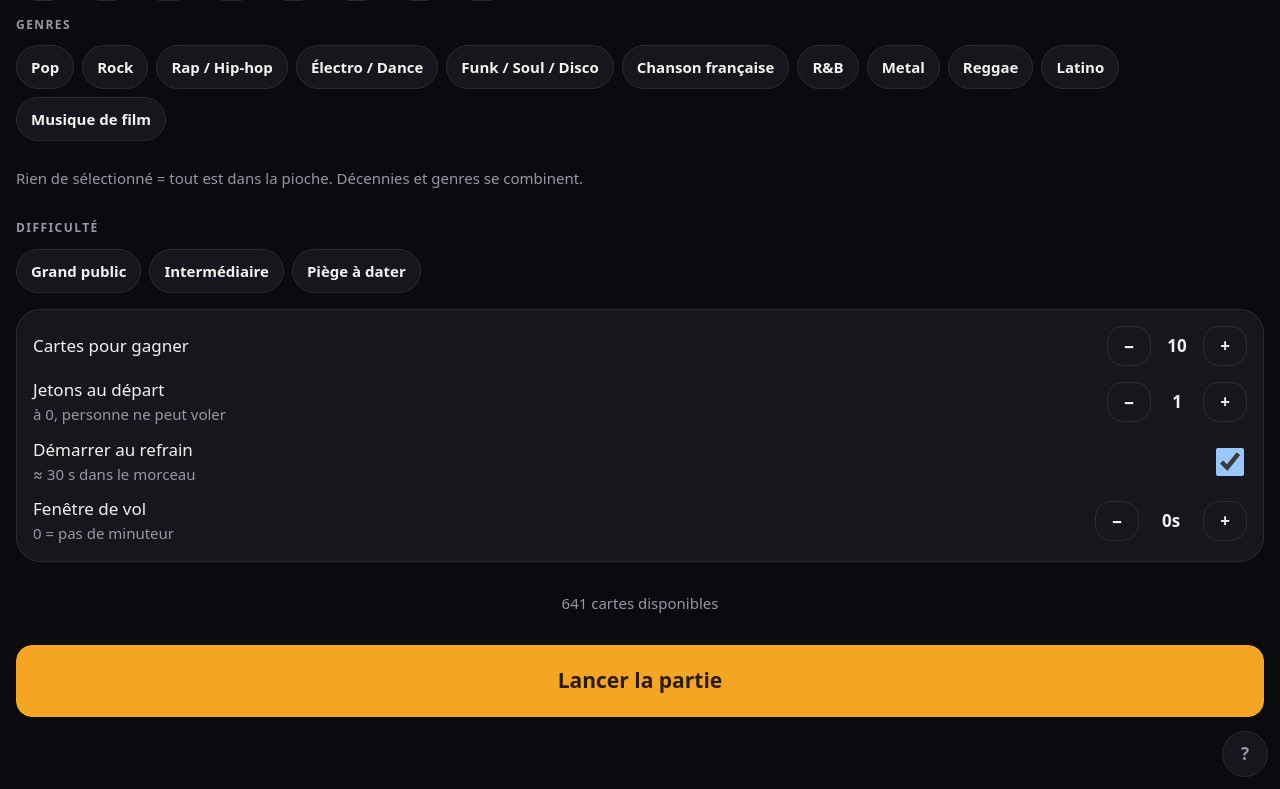
a game, played through the UI › lets the arbiter hand out a token from the draw screen
The image size is (1280, 789).
(page scrolled)
What coordinates should you click on to do the following:
click the button "Lancer la partie"
I would click on:
 (640, 681)
Its box is [16,645,1264,717].
(page scrolled)
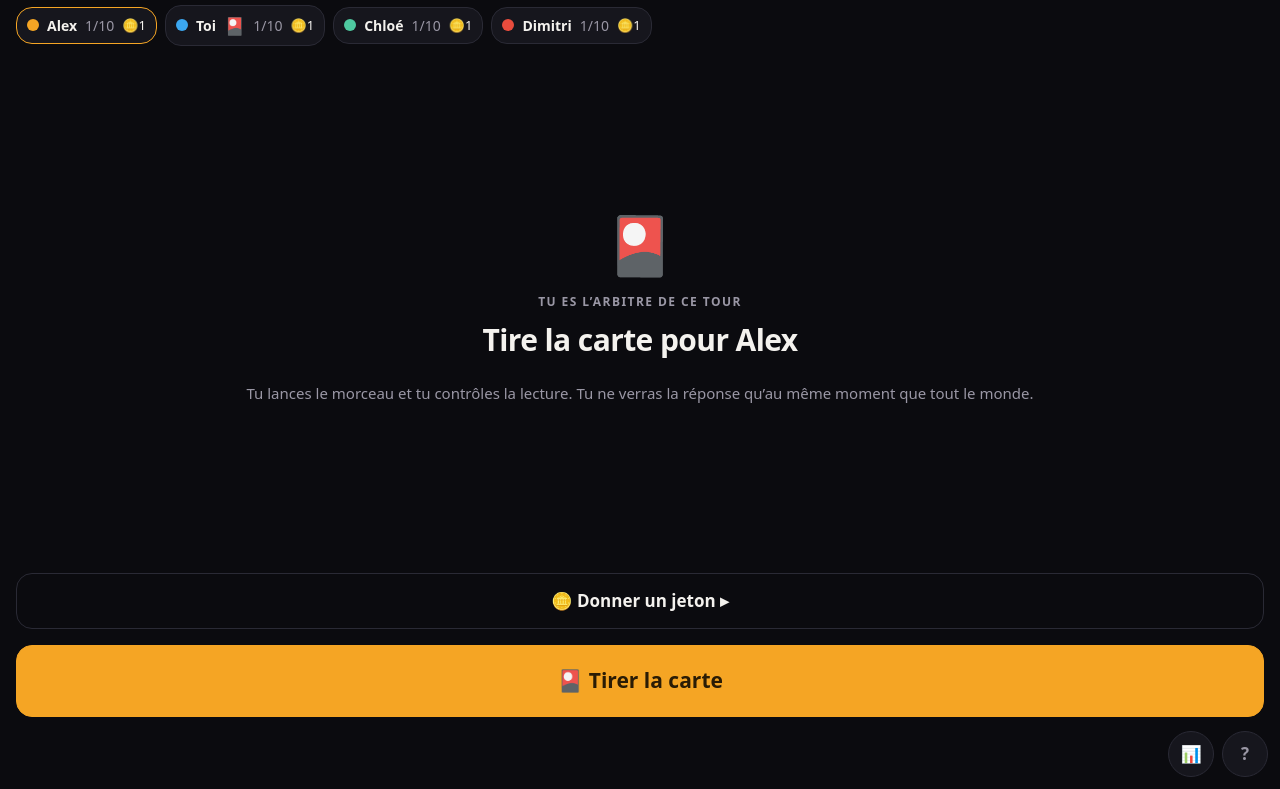
Now the button "🎴 Tirer la carte" is shown, box [16,645,1264,717]
Now the number of elements titled "1 jeton" is 4, box [122,16,146,35]; [290,16,314,35]; [449,16,472,35]; [617,16,641,35]
What coordinates should you click on to do the following:
click the button "🪙 Donner un jeton ▸"
I would click on:
 (640, 601)
Its box is [16,573,1264,629].
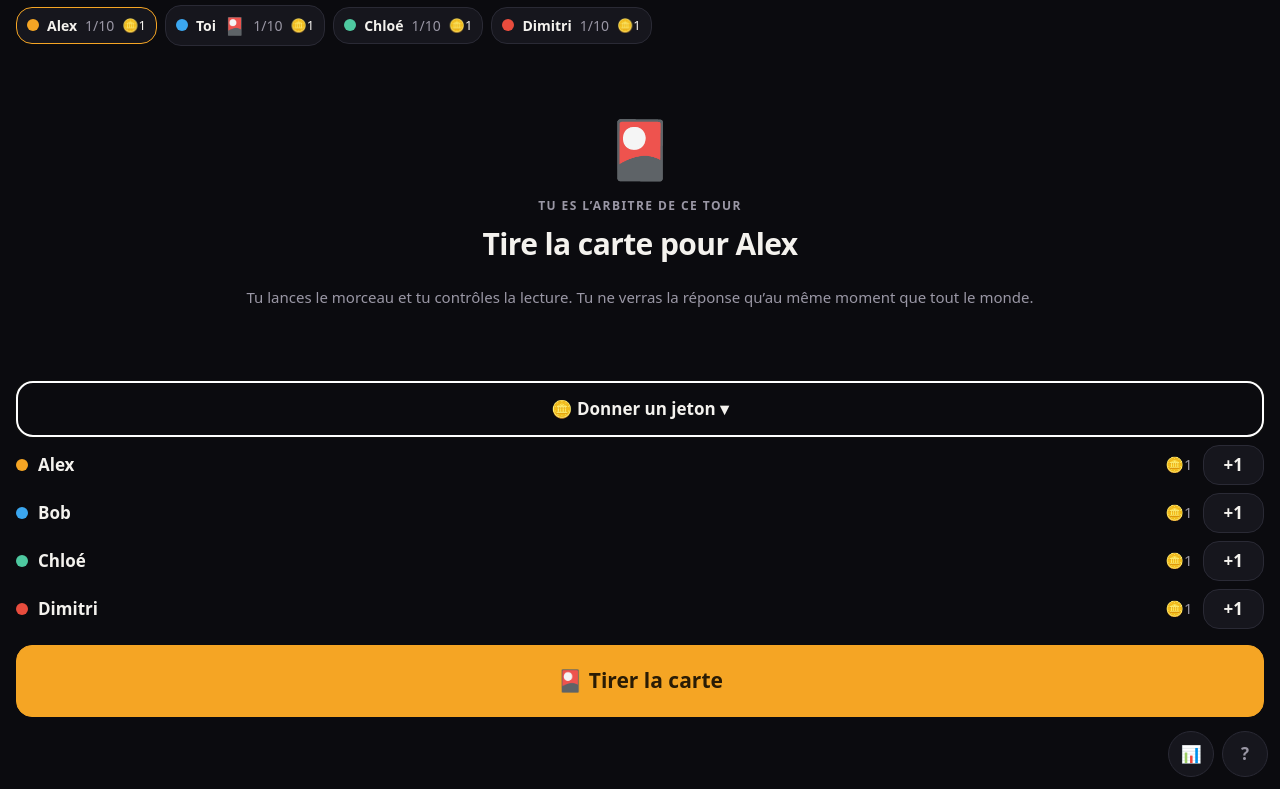
# The list is in seating order, so the first +1 goes to Alex.
What coordinates should you click on to do the following:
click the 1st button "+1"
I would click on:
 (1233, 465)
Its box is [1202,445,1264,485].
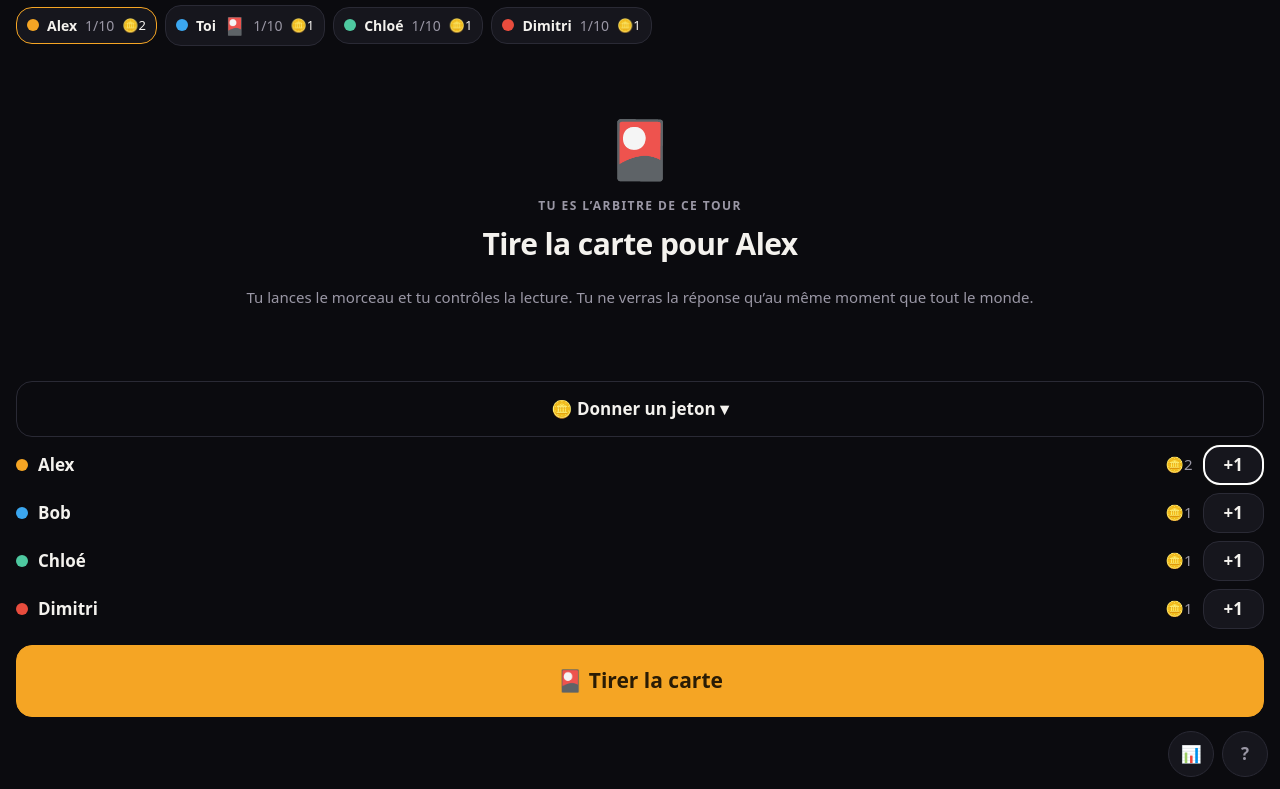
Now the number of elements titled "1 jeton" is 3, box [290,16,314,35]; [449,16,472,35]; [617,16,641,35]
Now the text titled "2 jetons" next to "Toi" is shown, box [122,16,146,35]
